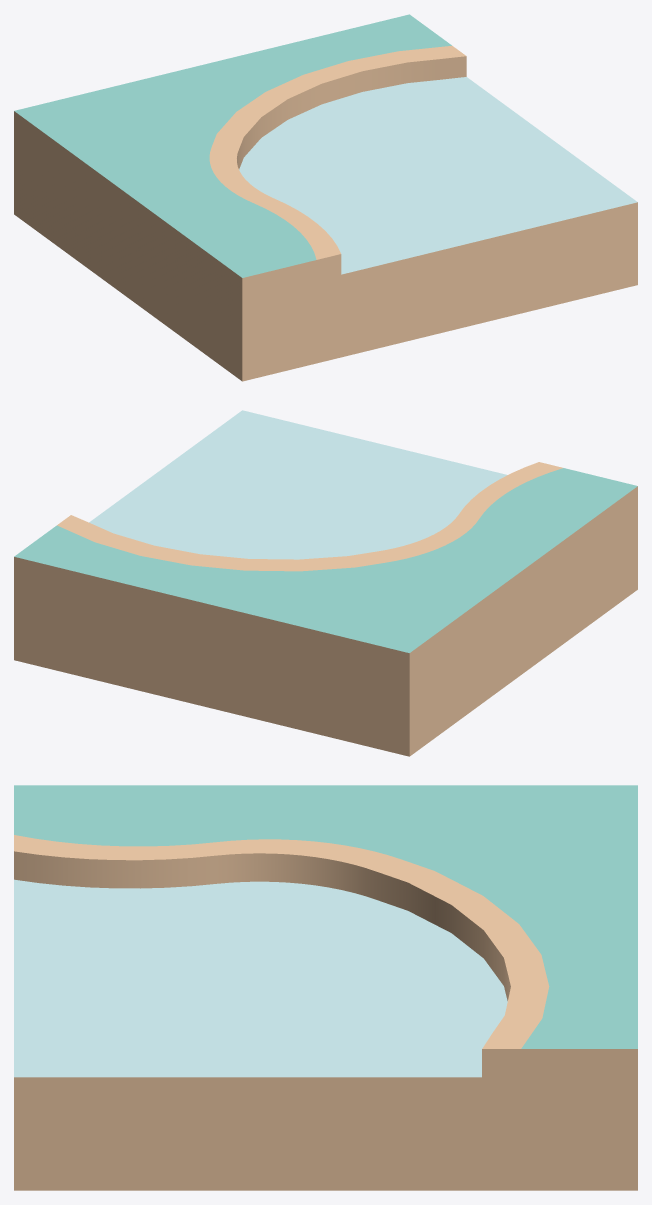
File: angoloAcqua.glb
3 views of the same model, one above another, from view 1: azimuth 30°, elevation 25°; view 2: azimuth 150°, elevation 25°; view 3: azimuth 270°, elevation 25° (orthographic). The views are drawn at different scales.
Visible parts, largest first — view 1: ground_dirtRiverSideCorner; view 2: ground_dirtRiverSideCorner; view 3: ground_dirtRiverSideCorner.
Boxes of the visible parts, left/top/right/bottom form: ground_dirtRiverSideCorner: left=14, top=14, right=637, bottom=381; ground_dirtRiverSideCorner: left=14, top=410, right=637, bottom=756; ground_dirtRiverSideCorner: left=14, top=785, right=637, bottom=1190.
Bounding box in the file's own units: 1 × 0.25 × 1.
